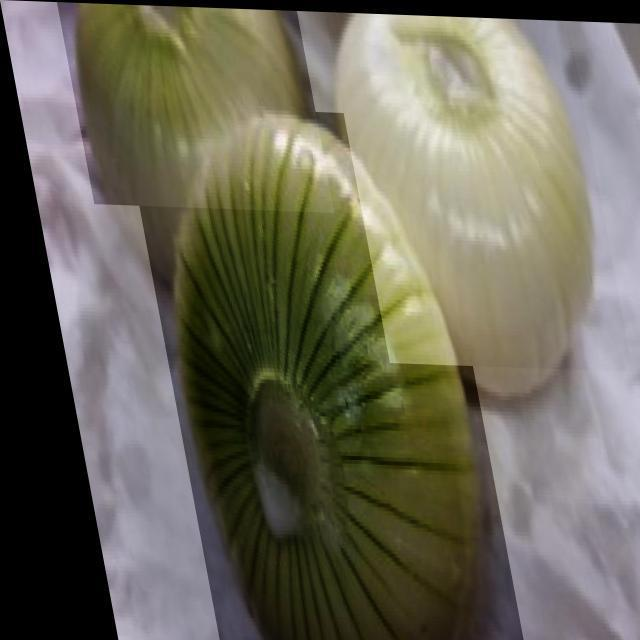Onion: (117, 104, 502, 640), (325, 10, 619, 368), (57, 2, 327, 210)
